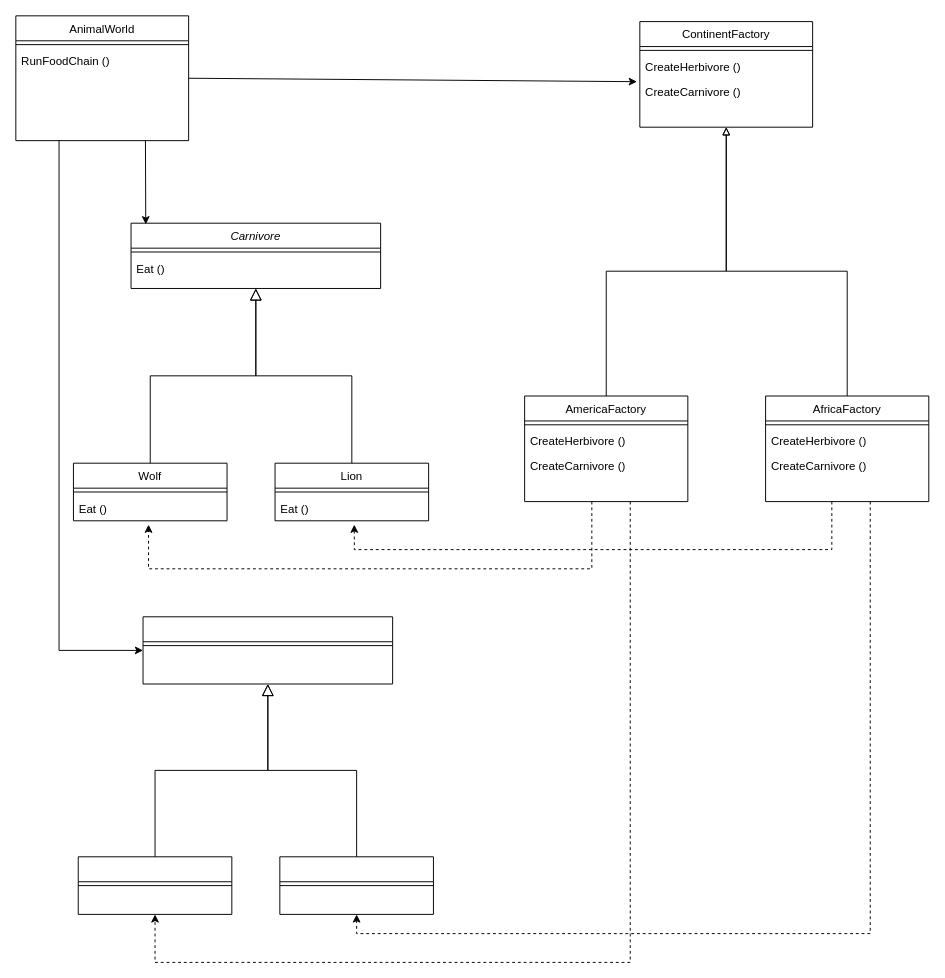
Some shapes in this 945 by 978 pixel diagram are drawn without their labels. The centre of each missing label's shape, as x and y in pixels:
"Bison" belongs at (x=154, y=885).
"Herbivore" belongs at (x=267, y=650).
"Wildebeest" belongs at (x=356, y=885).
